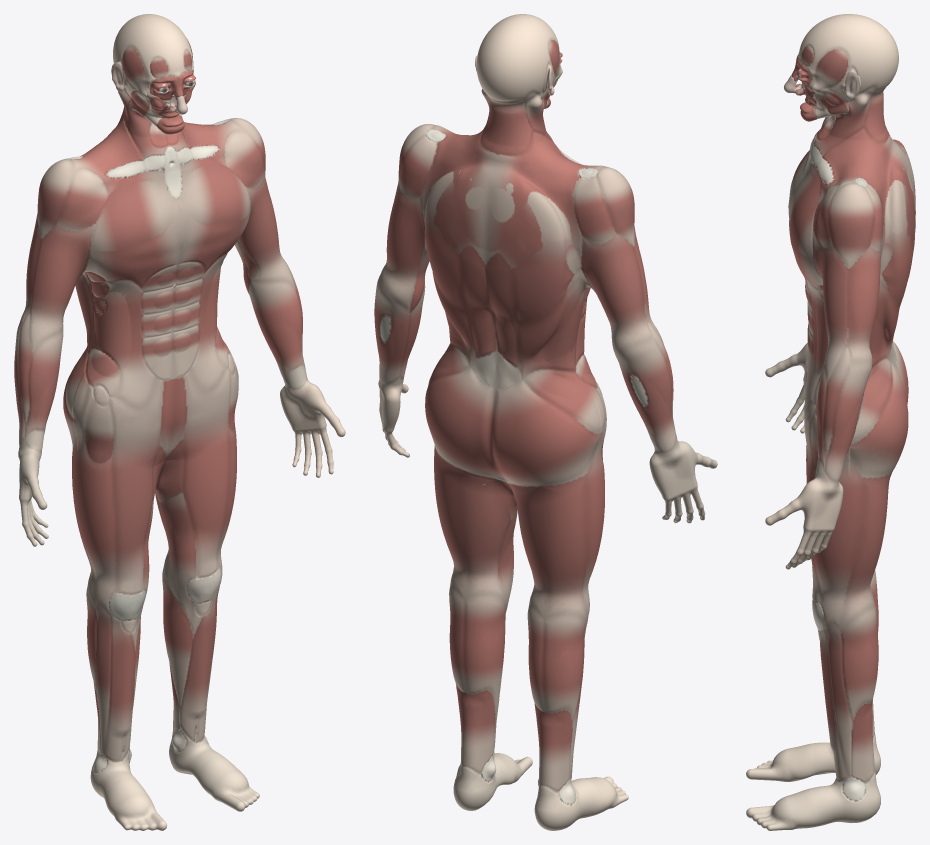
The model's file is male.glb.
The picture shows the model from 3 angles, left to right: view 1: azimuth 30°, elevation 25°; view 2: azimuth 150°, elevation 25°; view 3: azimuth 270°, elevation 25°; orthographic projection. The views are drawn at different scales.
Visible parts, largest first — view 1: skin; view 2: skin; view 3: skin.
Boxes of the visible parts, box(x1,y1,x2,y2) form: skin: box(14, 14, 345, 830); skin: box(374, 14, 717, 830); skin: box(746, 14, 915, 830).
Bounding box in the file's own units: 0.7494 × 1.78 × 0.3497.
